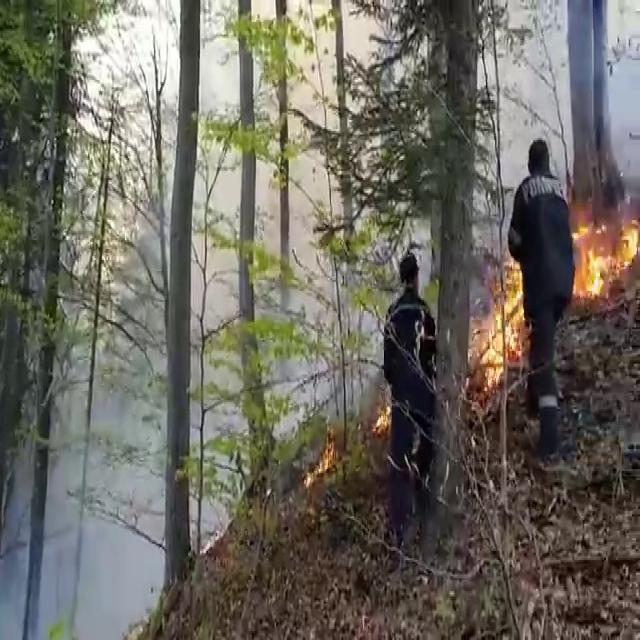Fire: (474, 254, 530, 396), (570, 204, 640, 304)
Smoke: (0, 354, 171, 636)
